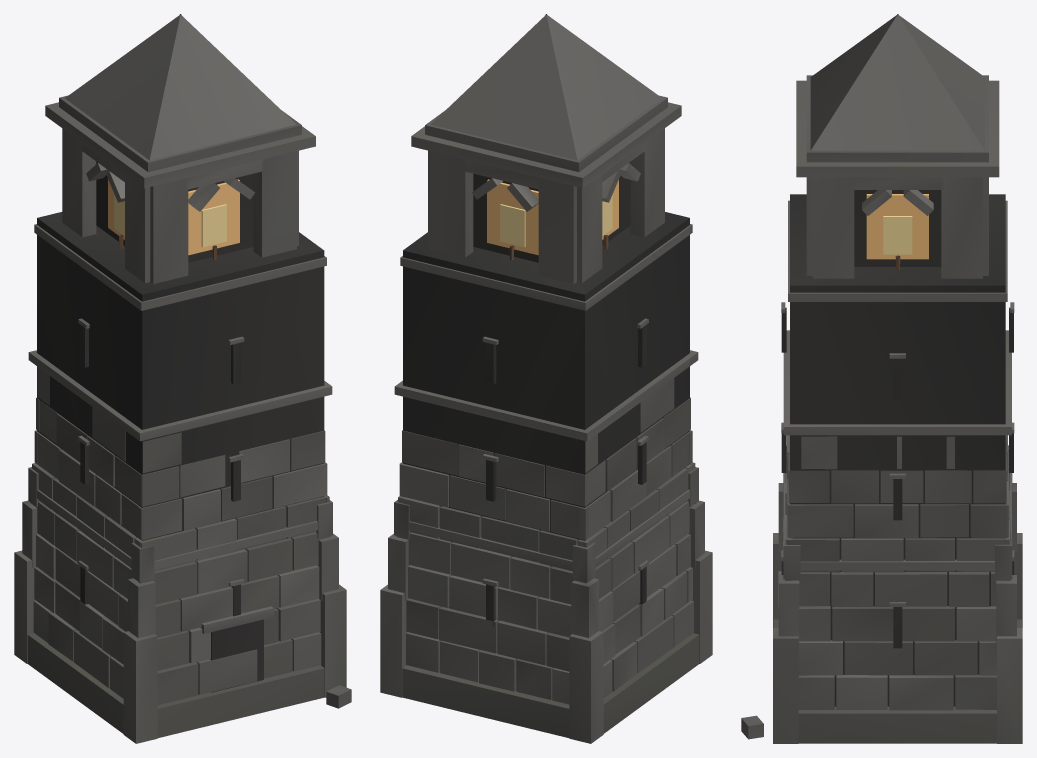
The model's file is environment.glb.
The picture shows the model from 3 angles, left to right: view 1: azimuth 30°, elevation 25°; view 2: azimuth 150°, elevation 25°; view 3: azimuth 270°, elevation 25°; orthographic projection. The views are drawn at different scales.
Visible parts, largest first — view 1: Tower; view 2: Tower; view 3: Tower.
Boxes of the visible parts, x1,y1,x2,y2 form: Tower: [14, 14, 351, 743]; Tower: [380, 14, 712, 743]; Tower: [741, 14, 1022, 743].
Size of the model in its own units: 6.02 by 18.16 by 6.78.
